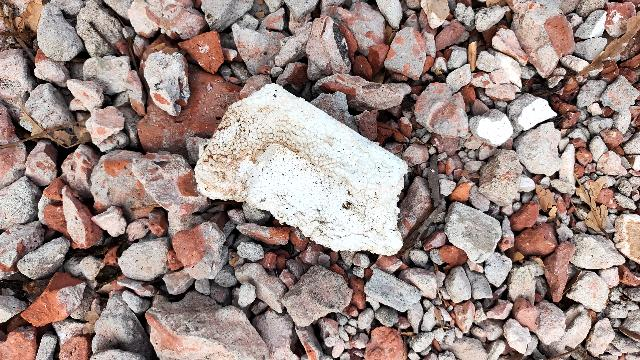cocksheet: (188, 64, 430, 278)
